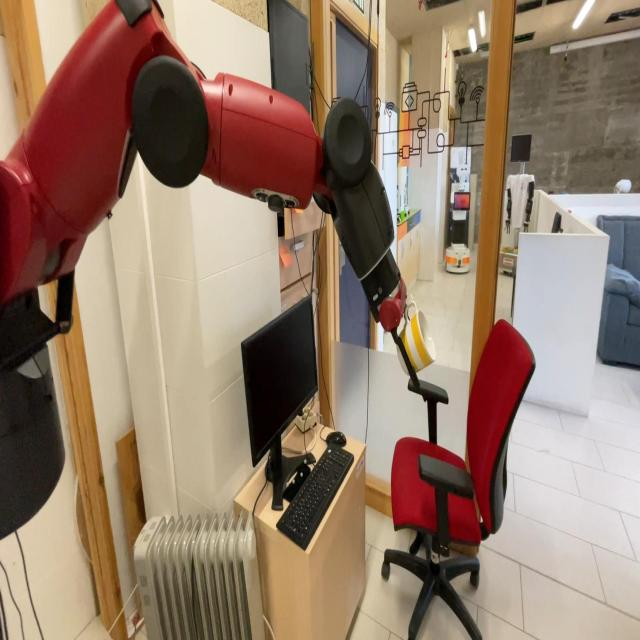cup: (394, 300, 437, 383)
